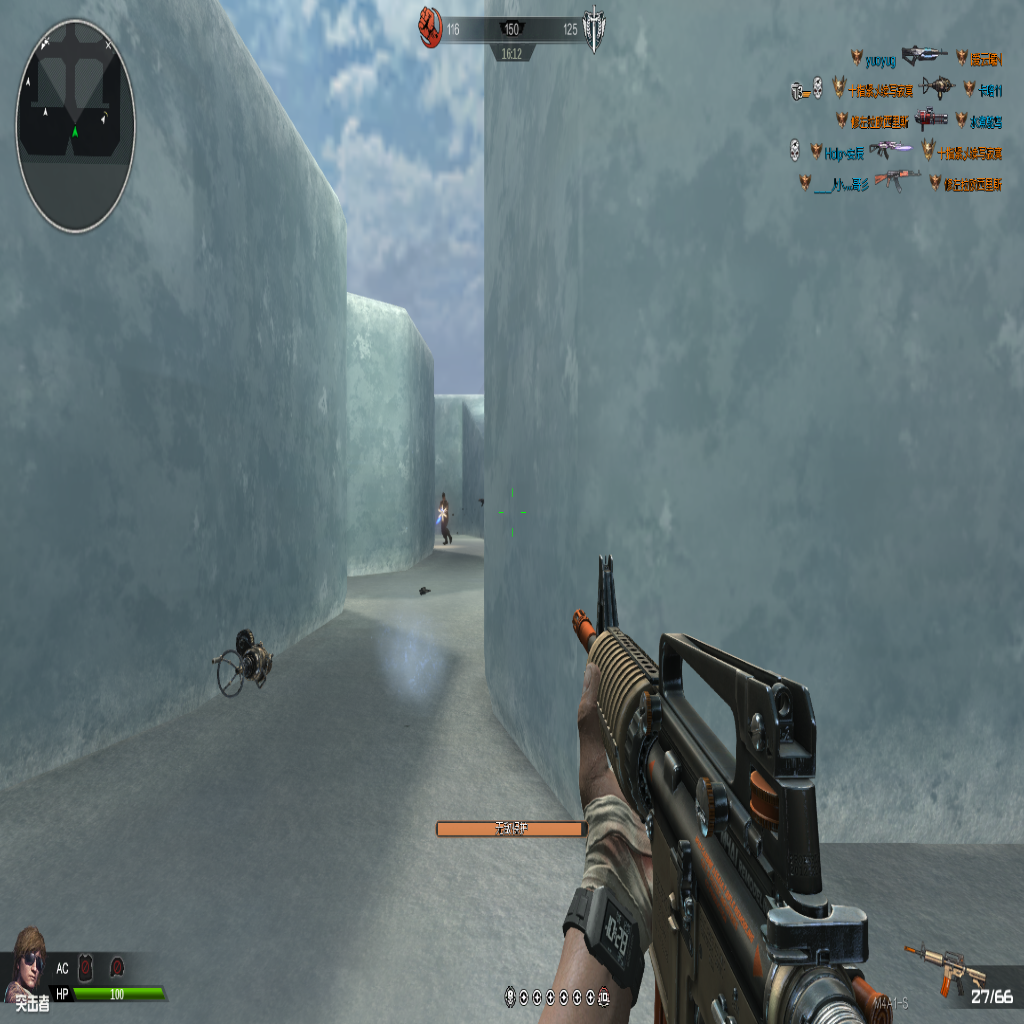ct: (437, 490, 452, 546)
